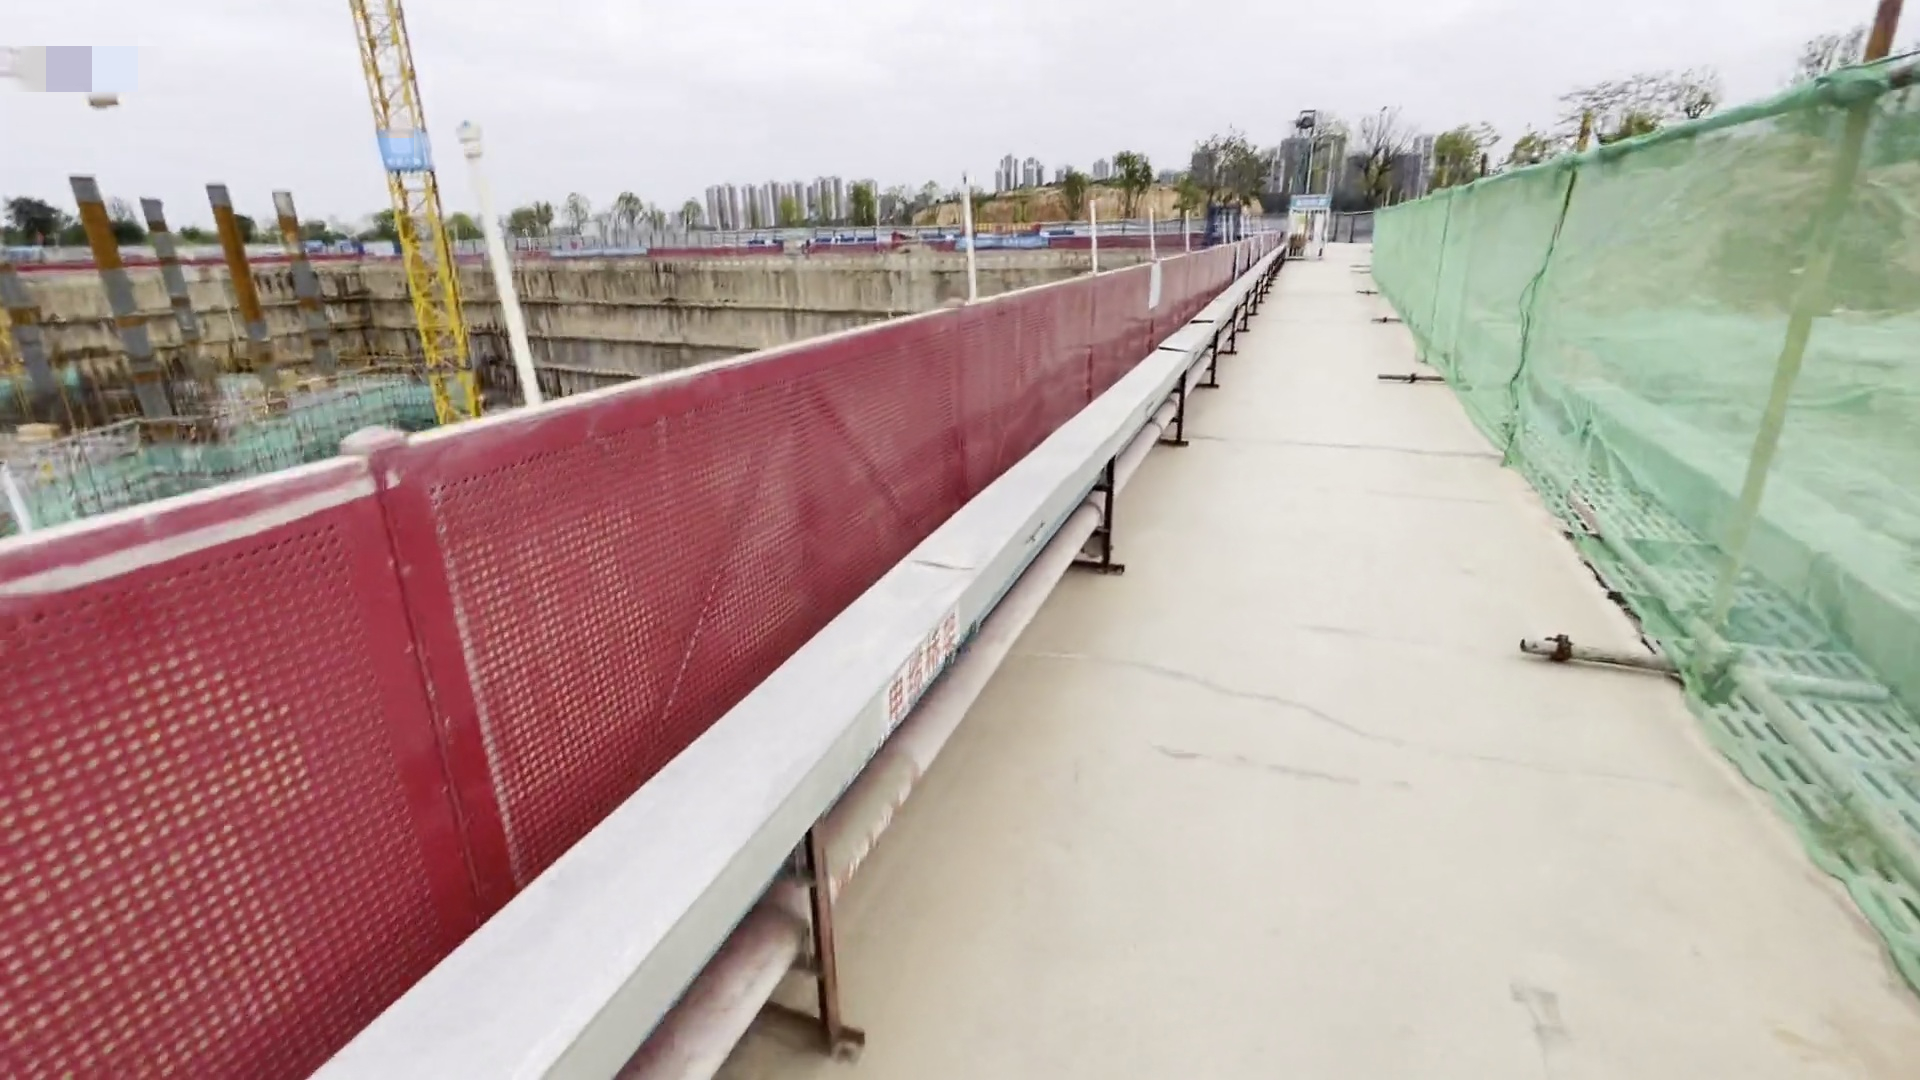fence: (1, 243, 1273, 1080)
